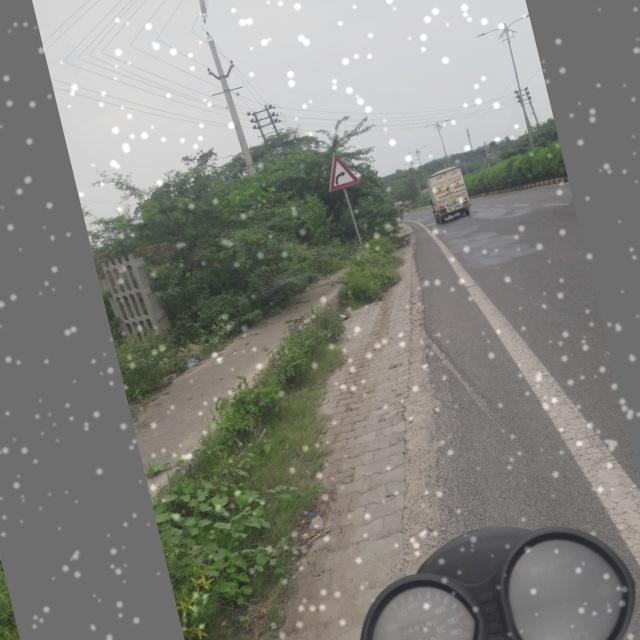Right_Hand_Curve: (318, 148, 363, 191)
